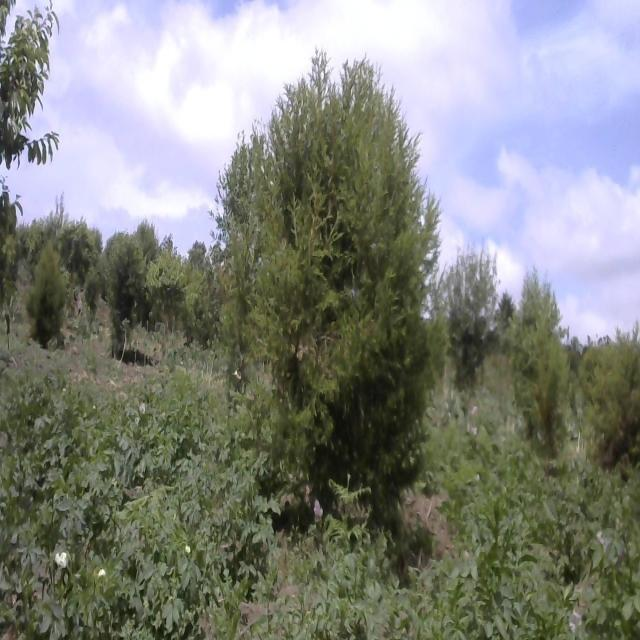Juniperus procesera: (235, 54, 446, 500), (514, 290, 572, 450), (595, 331, 640, 466), (28, 240, 68, 348)
Olea europea -africana-: (447, 226, 504, 378)
